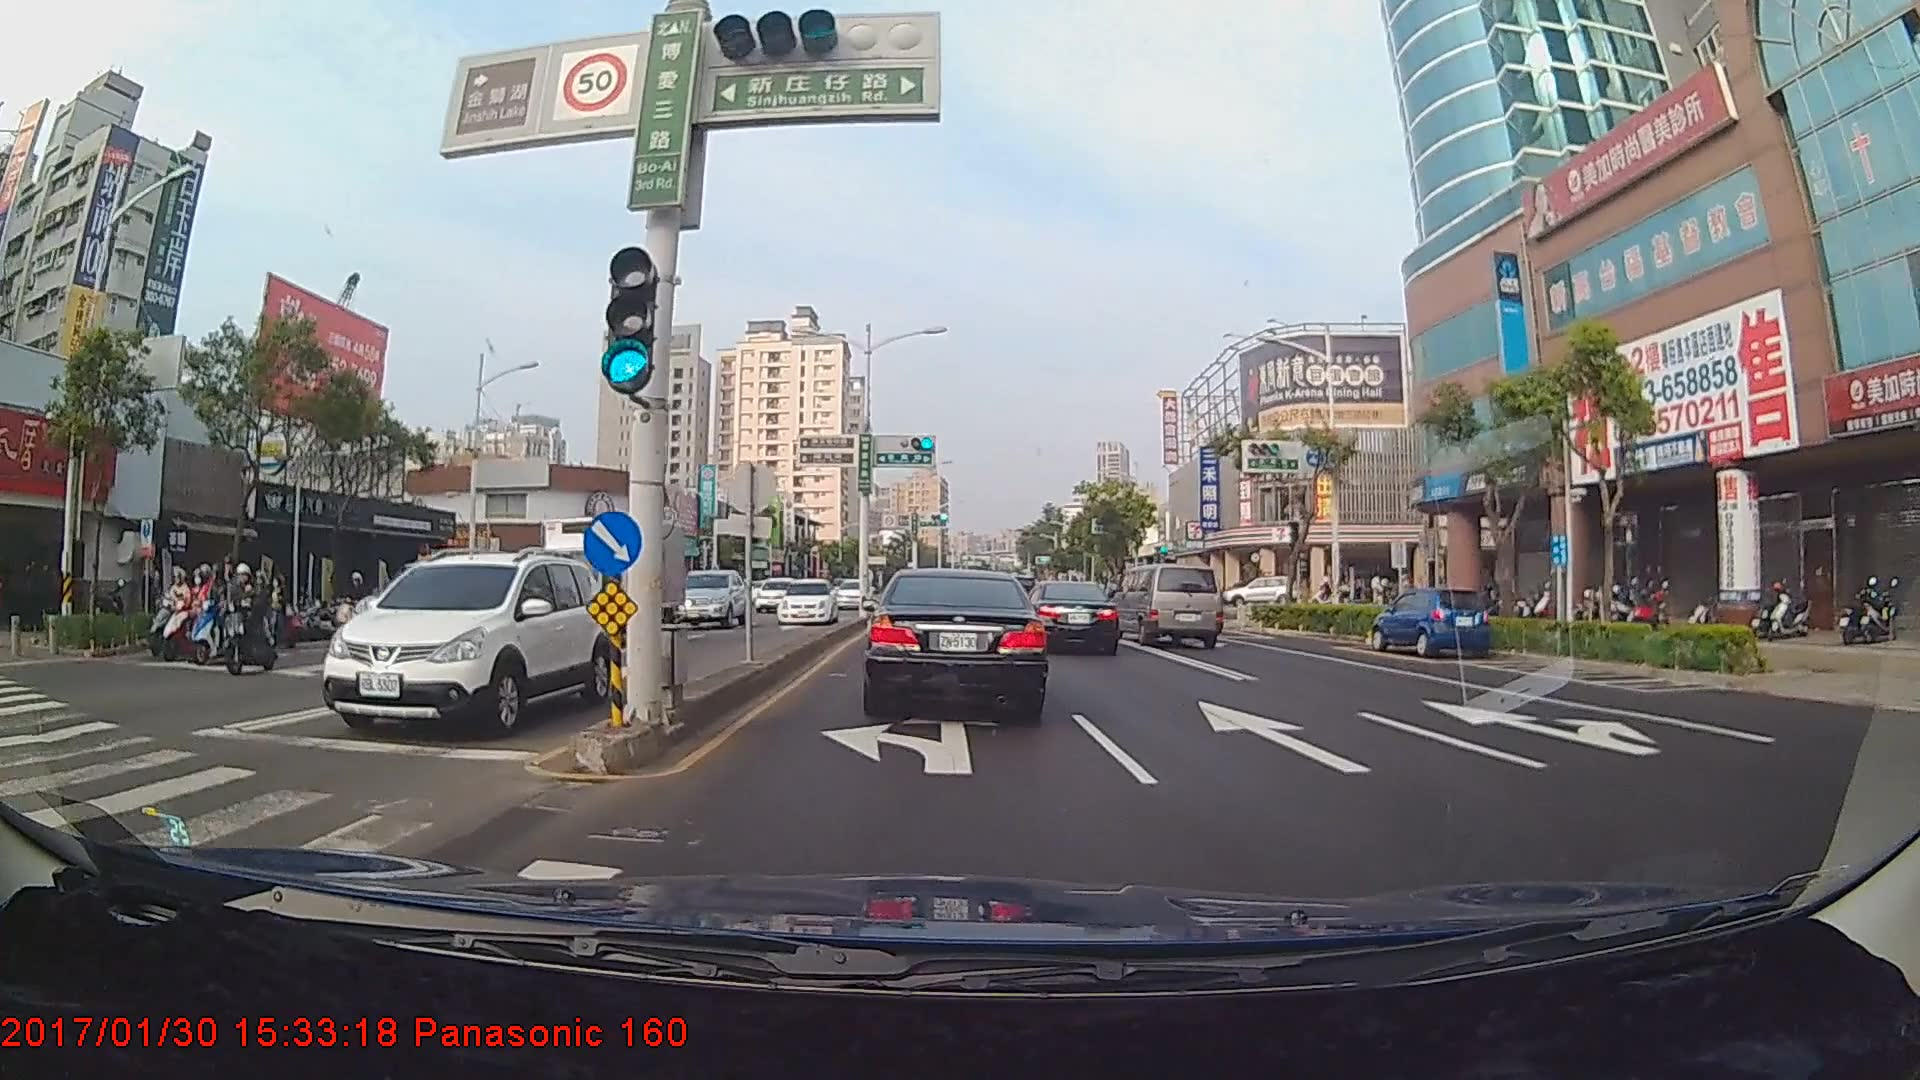rider: (214, 559, 284, 682), (190, 561, 271, 665), (160, 563, 239, 664)
vehicle: (327, 549, 604, 734), (868, 563, 1048, 720), (528, 513, 679, 655), (1114, 562, 1223, 648), (1372, 585, 1491, 657), (1019, 573, 1120, 655), (672, 564, 748, 630), (772, 574, 834, 626), (1233, 577, 1285, 607), (753, 577, 797, 610), (833, 576, 867, 611)
